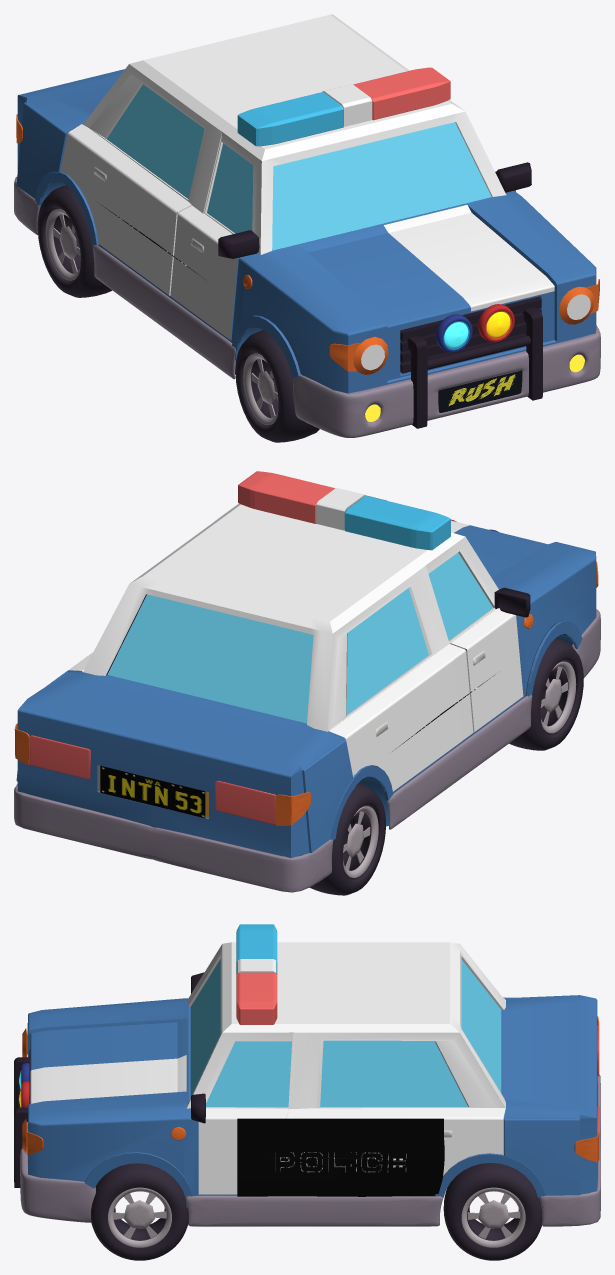
Rendered from car3 (1).fbx.
The picture shows the model from 3 angles, top to bottom: view 1: azimuth 30°, elevation 25°; view 2: azimuth 150°, elevation 25°; view 3: azimuth 270°, elevation 25°; orthographic projection. The views are drawn at different scales.
Visible parts, largest first — view 1: body, sidebumper, light, TIER, design wheel, delL, design2, FRONT LIGHT, lierd, Rush, front light, mirror (+2 smaller); view 2: body, sidebumper, light, TIER, blight, design wheel, bnumber plate, lierd, backlight, mirror; view 3: body, png-transparent-nationalpolice-removebg-preview, sidebumper, TIER, design wheel, light, lierd, delL, front light, mirror, backlight, FRONT LIGHT.
Boxes of the visible parts, x1,y1,x2,y2 form: body: [16, 14, 596, 393]; sidebumper: [14, 177, 600, 437]; light: [237, 67, 450, 146]; TIER: [37, 185, 319, 442]; design wheel: [45, 209, 278, 425]; delL: [407, 307, 542, 428]; design2: [400, 297, 541, 373]; FRONT LIGHT: [436, 304, 514, 352]; lierd: [35, 171, 300, 378]; Rush: [438, 370, 522, 412]; front light: [329, 279, 599, 374]; mirror: [218, 162, 531, 258]; body: [16, 495, 596, 858]; sidebumper: [14, 609, 600, 892]; light: [238, 471, 450, 550]; TIER: [309, 635, 583, 895]; blight: [29, 735, 276, 824]; design wheel: [343, 661, 576, 877]; bnumber plate: [100, 765, 205, 818]; lierd: [330, 620, 582, 839]; backlight: [14, 723, 310, 825]; mirror: [494, 587, 530, 617]; body: [28, 942, 597, 1195]; png-transparent-nationalpolice-removebg-preview: [237, 1118, 444, 1196]; sidebumper: [20, 1074, 600, 1226]; TIER: [90, 1163, 542, 1260]; design wheel: [108, 1187, 525, 1247]; light: [236, 924, 277, 1024]; lierd: [84, 1152, 545, 1207]; delL: [14, 1057, 29, 1187]; front light: [22, 1023, 43, 1155]; mirror: [191, 972, 205, 1123]; backlight: [574, 1016, 599, 1162]; FRONT LIGHT: [19, 1063, 29, 1107].
Bounding box in the file's own units: 110 × 88.66 × 200.
Materials: 25 (3 with a texture image).
